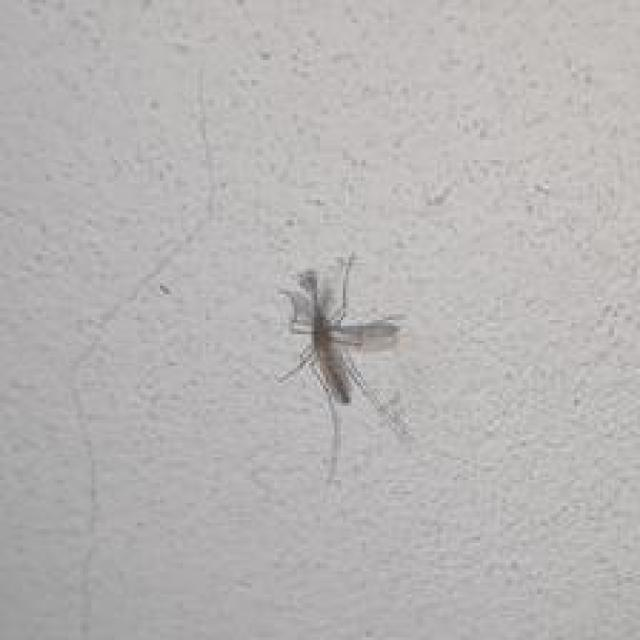Culex: (272, 250, 414, 484)
